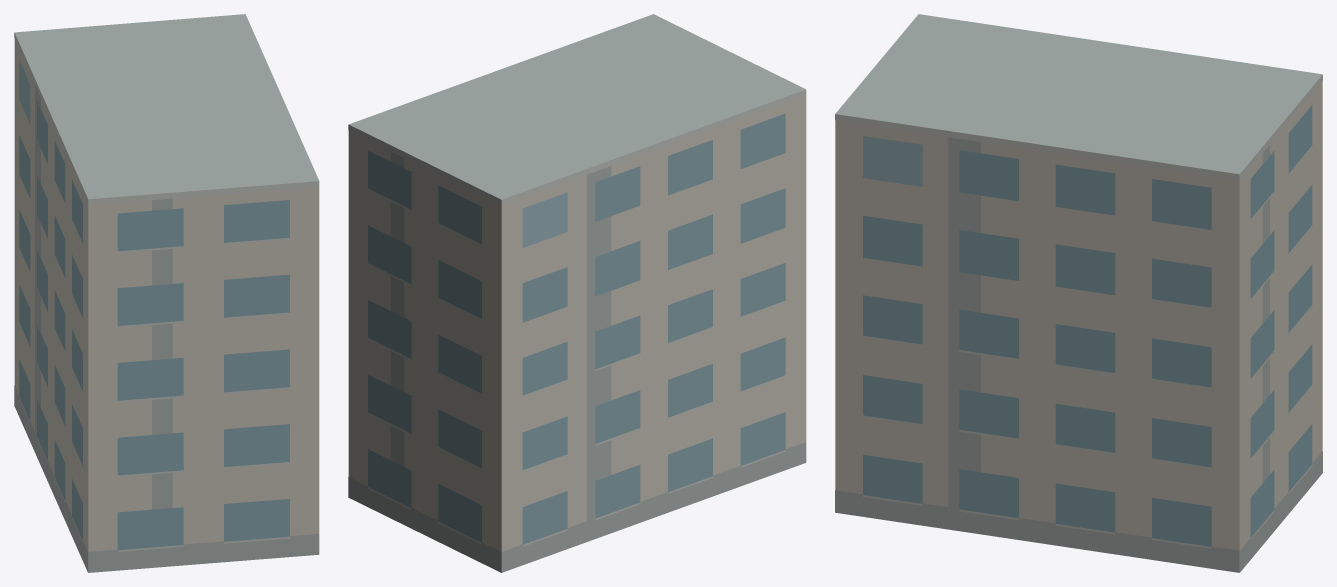
File: residential-1dfdd31a-bc6d-4856-b5f9-8ce0884e2a57.glb
3 views of the same model, side by side, from view 1: azimuth 30°, elevation 25°; view 2: azimuth 150°, elevation 25°; view 3: azimuth 270°, elevation 25° (orthographic). The views are drawn at different scales.
Parts seen in each view (by area): view 1: residential-1dfdd31a-bc6d-4856-b5f9-8ce0884e2a57.tmp; view 2: residential-1dfdd31a-bc6d-4856-b5f9-8ce0884e2a57.tmp; view 3: residential-1dfdd31a-bc6d-4856-b5f9-8ce0884e2a57.tmp.
Boxes of the visible parts, bbox=[...] form: residential-1dfdd31a-bc6d-4856-b5f9-8ce0884e2a57.tmp: bbox=[14, 14, 319, 572]; residential-1dfdd31a-bc6d-4856-b5f9-8ce0884e2a57.tmp: bbox=[348, 14, 806, 572]; residential-1dfdd31a-bc6d-4856-b5f9-8ce0884e2a57.tmp: bbox=[835, 14, 1322, 572].
Bounding box in the file's own units: 13.16 × 15.25 × 16.92.
